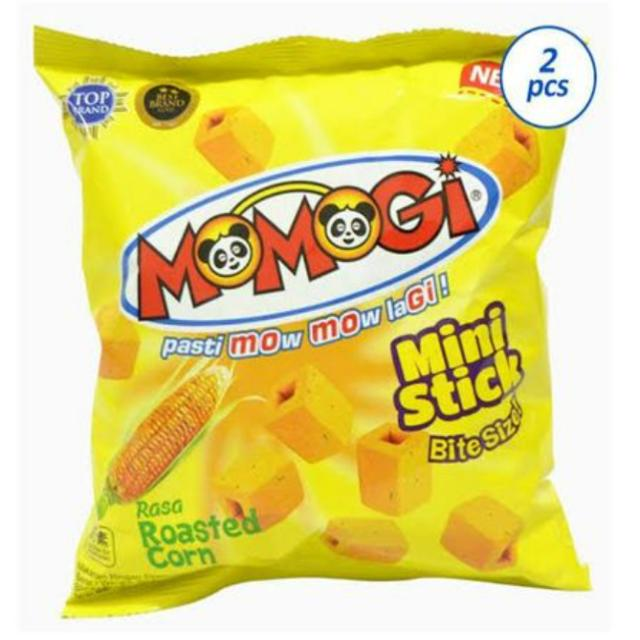KemasanPlastik: (32, 22, 594, 618)
